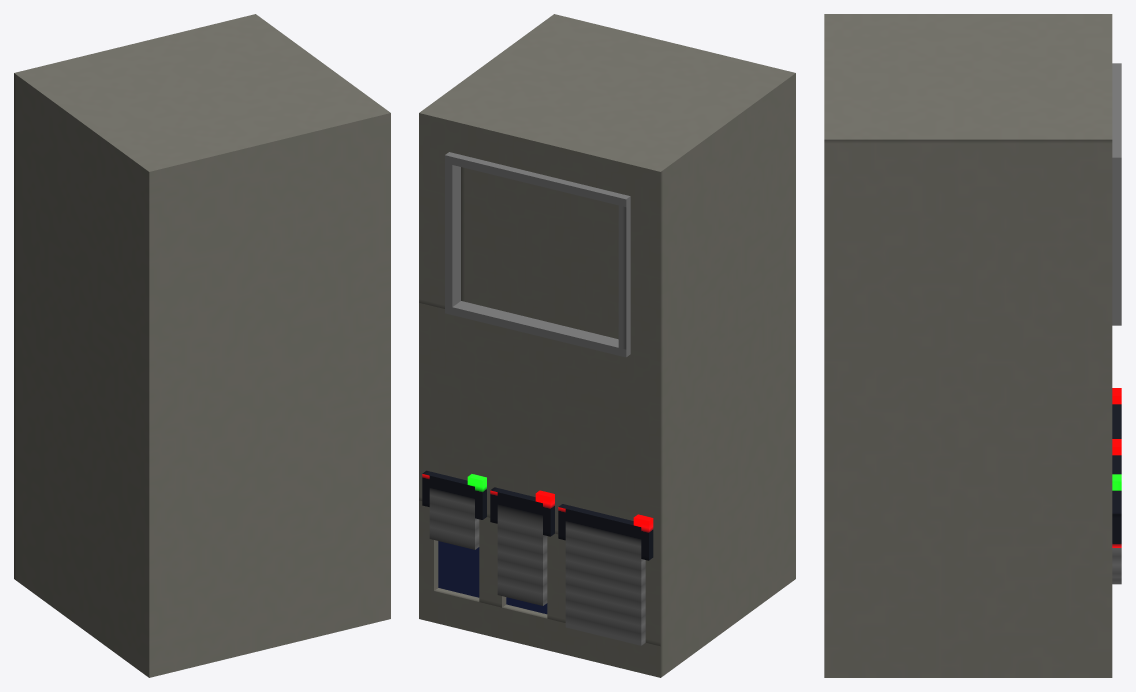
File: budynek_02_lacznik_gora.dae
The picture shows the model from 3 angles, left to right: view 1: azimuth 30°, elevation 25°; view 2: azimuth 150°, elevation 25°; view 3: azimuth 270°, elevation 25°; orthographic projection. The views are drawn at different scales.
Parts seen in each view (by area): view 1: Content; view 2: Content; view 3: Content.
Part boxes in pixels (x1,y1,x2,y2): Content: (14,14,390,677); Content: (419,14,795,677); Content: (824,14,1121,677).
Size of the model in its own units: 32 by 64 by 32.
Materials: 1 (1 with a texture image).
